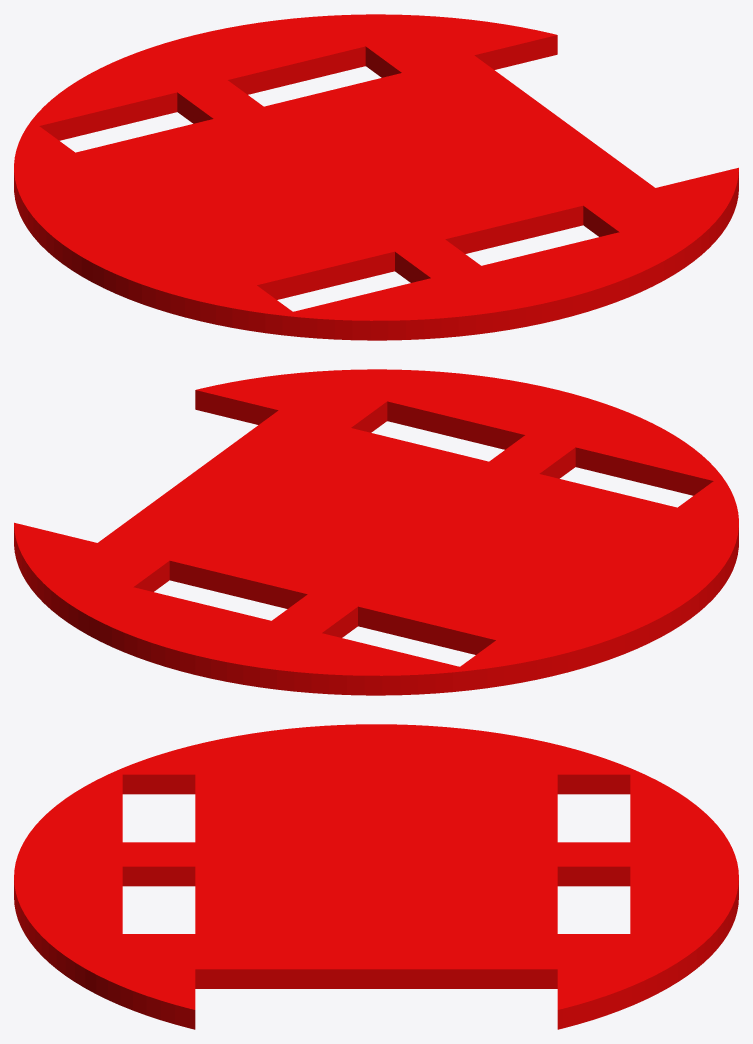
Rendered from robot_red.glb.
The picture shows the model from 3 angles, top to bottom: view 1: azimuth 30°, elevation 25°; view 2: azimuth 150°, elevation 25°; view 3: azimuth 270°, elevation 25°; orthographic projection.
Parts seen in each view (by area): view 1: robot; view 2: robot; view 3: robot.
Part boxes in pixels (box(x1,y1,x2,y2)): robot: box(14, 14, 738, 340); robot: box(14, 369, 738, 695); robot: box(14, 724, 738, 1029).
Bounding box in the file's own units: 1.87 × 0.06 × 2.
